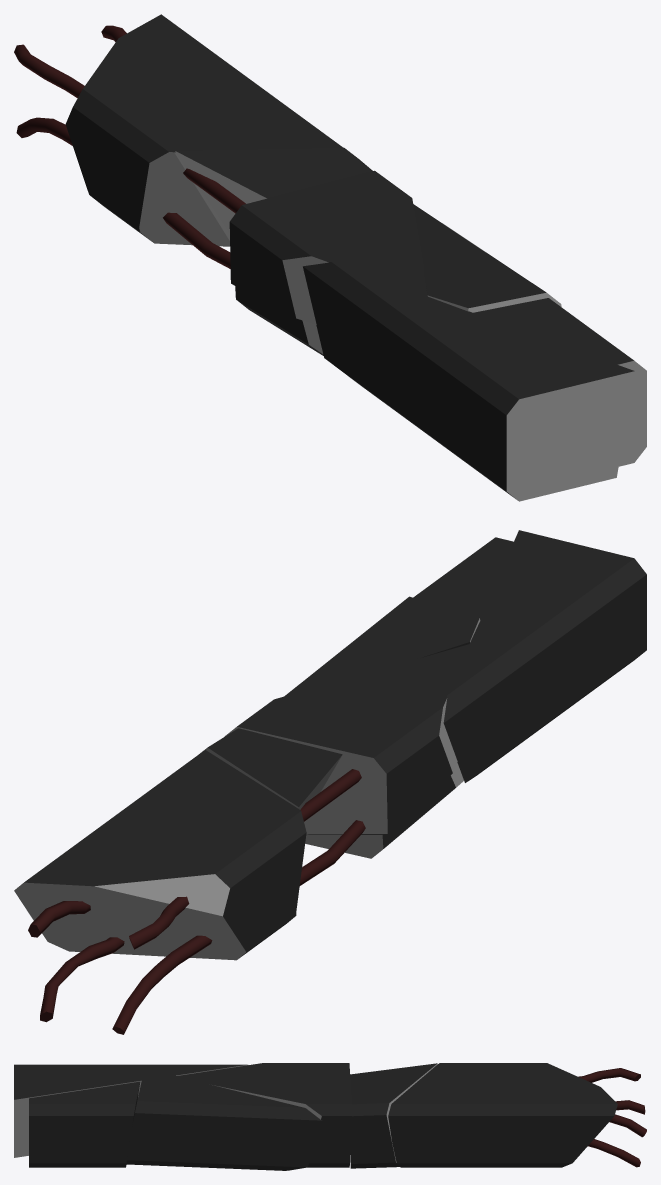
File: P_PoutreCasséVertical1.fbx
3 views of the same model, one above another, from view 1: azimuth 30°, elevation 25°; view 2: azimuth 150°, elevation 25°; view 3: azimuth 270°, elevation 25° (orthographic). The views are drawn at different scales.
Parts seen in each view (by area): view 1: P_PoutreCasséVertical1; view 2: P_PoutreCasséVertical1; view 3: P_PoutreCasséVertical1.
Boxes of the visible parts, x1=… form: P_PoutreCasséVertical1: x1=14, y1=14, x2=646, y2=501; P_PoutreCasséVertical1: x1=14, y1=530, x2=646, y2=1034; P_PoutreCasséVertical1: x1=14, y1=1063, x2=646, y2=1170.
Bounding box in the file's own units: 60.37 × 44.45 × 329.
